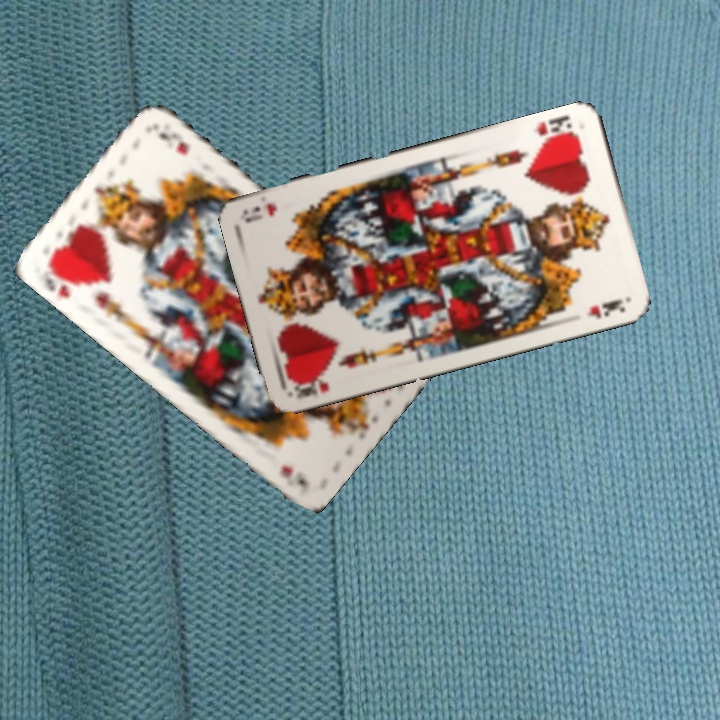HK: (39, 257, 82, 302), (531, 111, 580, 146), (289, 369, 332, 402)
